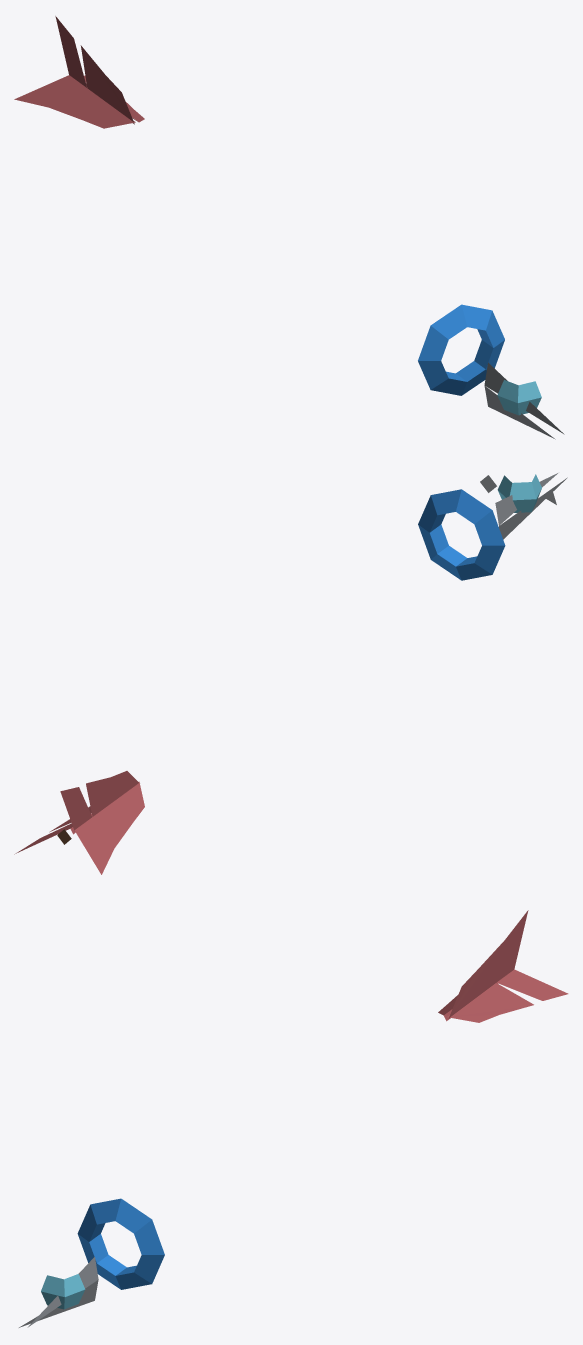
File: arrow-electroshock.lod.glb
3 renders of one model, top to bottom at view 1: azimuth 30°, elevation 25°; view 2: azimuth 150°, elevation 25°; view 3: azimuth 330°, elevation 25°, orthographic.
Parts seen in each view (by area): view 1: m; view 2: m; view 3: m.
Boxes of the visible parts, bbox=[...] form: m: bbox=[14, 16, 564, 439]; m: bbox=[14, 473, 567, 874]; m: bbox=[19, 910, 568, 1327].
Size of the model in its own units: 0.0296 by 0.0295 by 0.2952.
